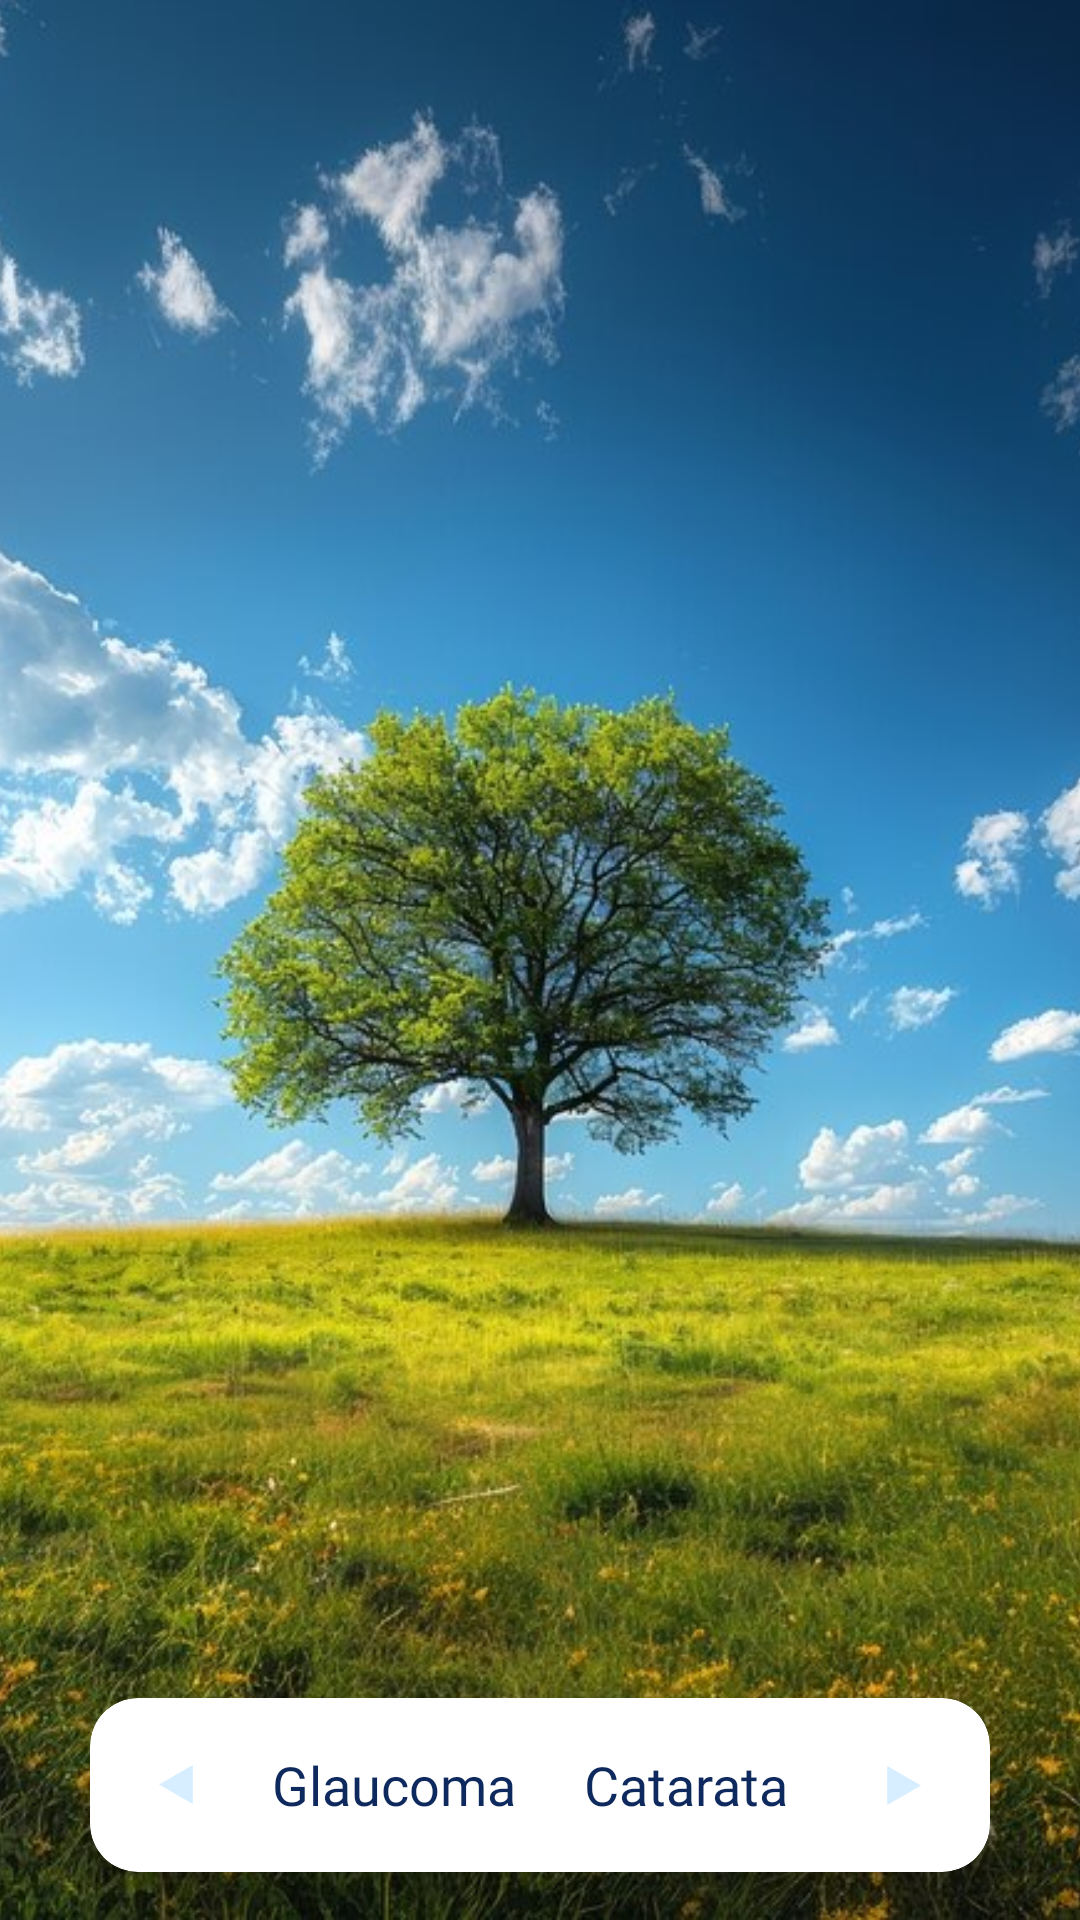

Point at icon controls on the screen. Image size 1080*1920, points as [x,y].
right arrow: [903,1785]
